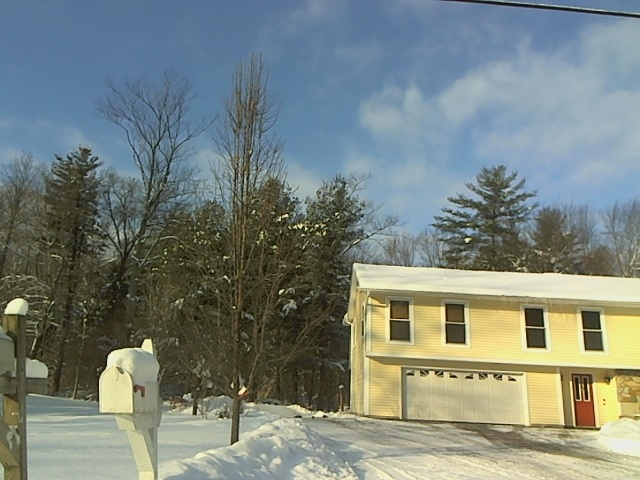Ploughed: (327, 415, 635, 480)
